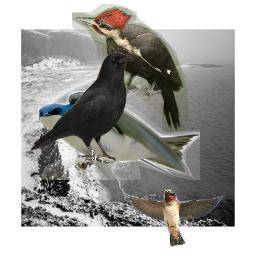Crow: (29, 50, 134, 165)
Swallow: (38, 91, 200, 180), (121, 189, 225, 247)
Woodpecker: (72, 4, 192, 134)
